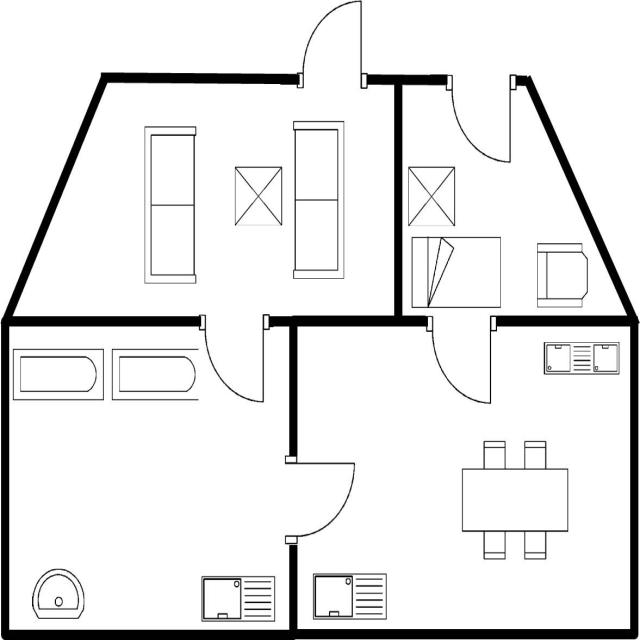armchair: (530, 238, 592, 310)
bed: (408, 234, 506, 312)
coffee_table: (229, 160, 285, 233), (406, 162, 460, 230)
dining_table: (456, 434, 573, 565)
large_sofa: (138, 120, 199, 292), (288, 115, 348, 285)
sink: (194, 569, 279, 626), (309, 567, 391, 622)
small_sink: (27, 561, 88, 624)
tub: (108, 344, 205, 407), (10, 346, 106, 406)
twin_sink: (538, 336, 622, 382)
